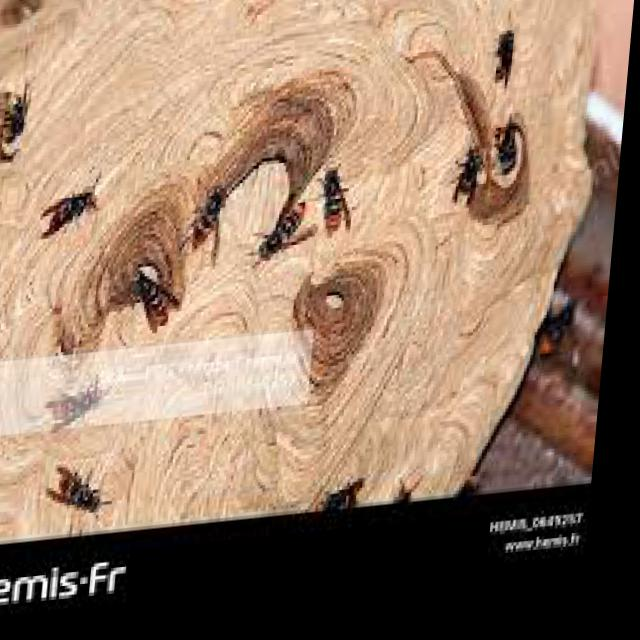Vespa Velutina: (248, 190, 328, 284), (46, 459, 128, 536), (34, 172, 108, 254), (316, 161, 370, 259), (130, 264, 193, 346), (187, 182, 233, 284), (0, 79, 38, 165), (488, 32, 522, 104), (455, 155, 491, 222), (500, 114, 529, 194)
